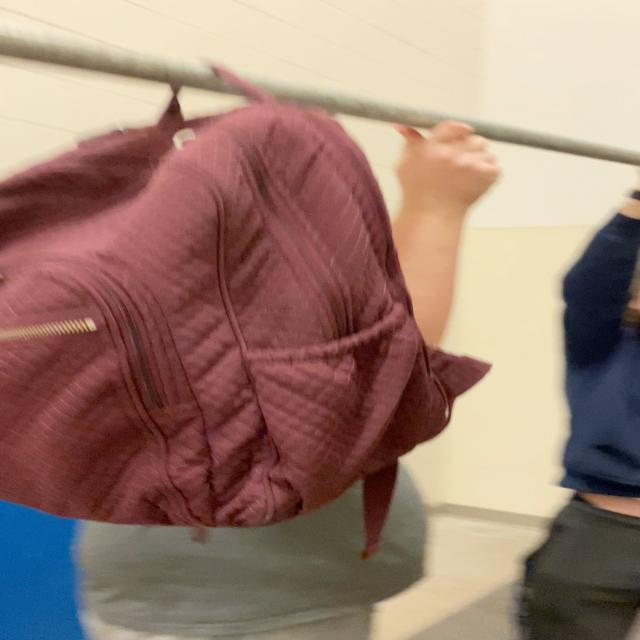Backpacks: (0, 104, 455, 532)
